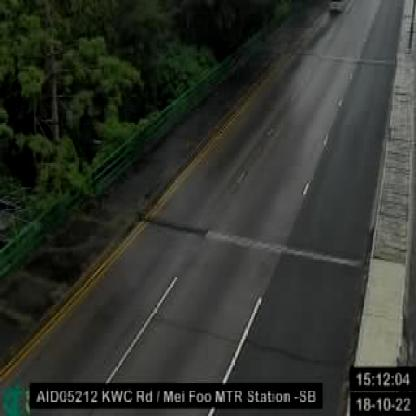Car: (326, 0, 354, 17)
